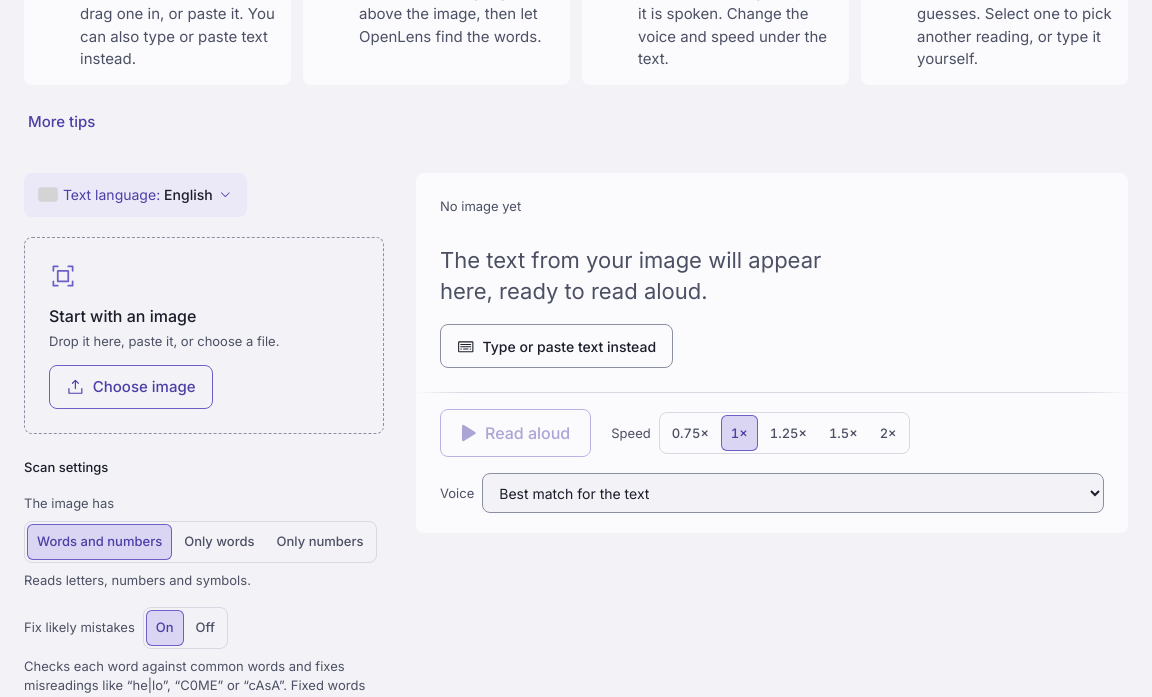
Test: App › lets you type text to read aloud
This screenshot has width=1152, height=697.
(page scrolled)
Click the button "Type or paste text instead": (557, 346) x1=440 y1=324 x2=673 y2=368
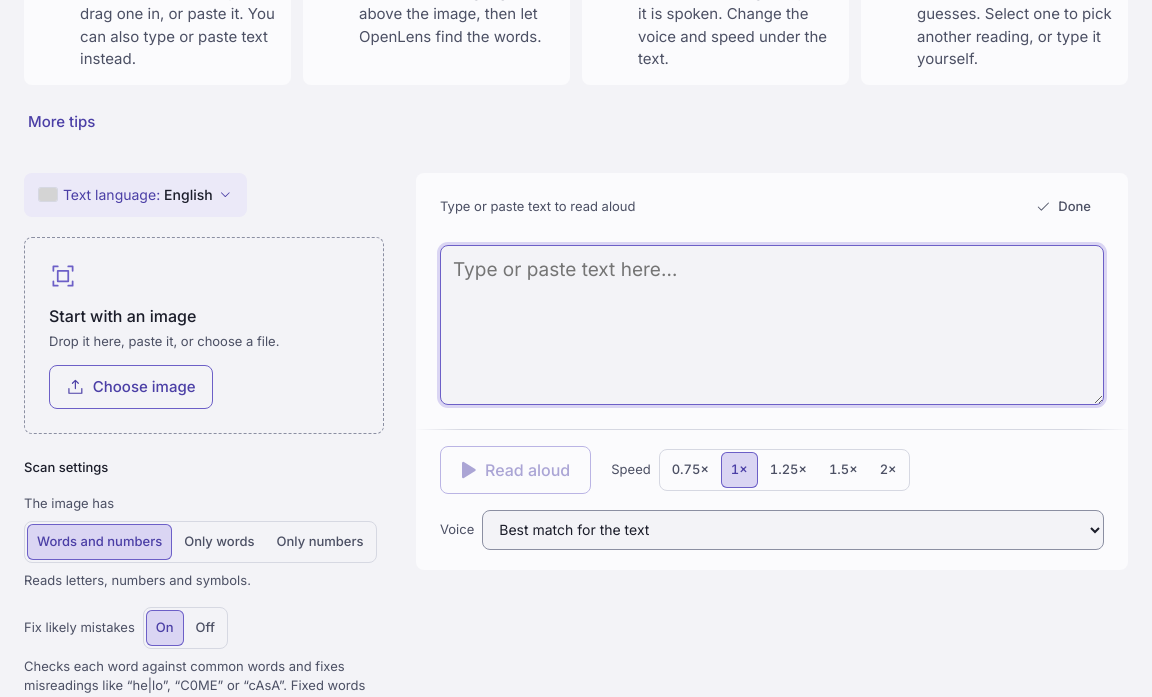
In the text box named "edit the text": (772, 325) x1=440 y1=245 x2=1104 y2=405, type "Hi there."
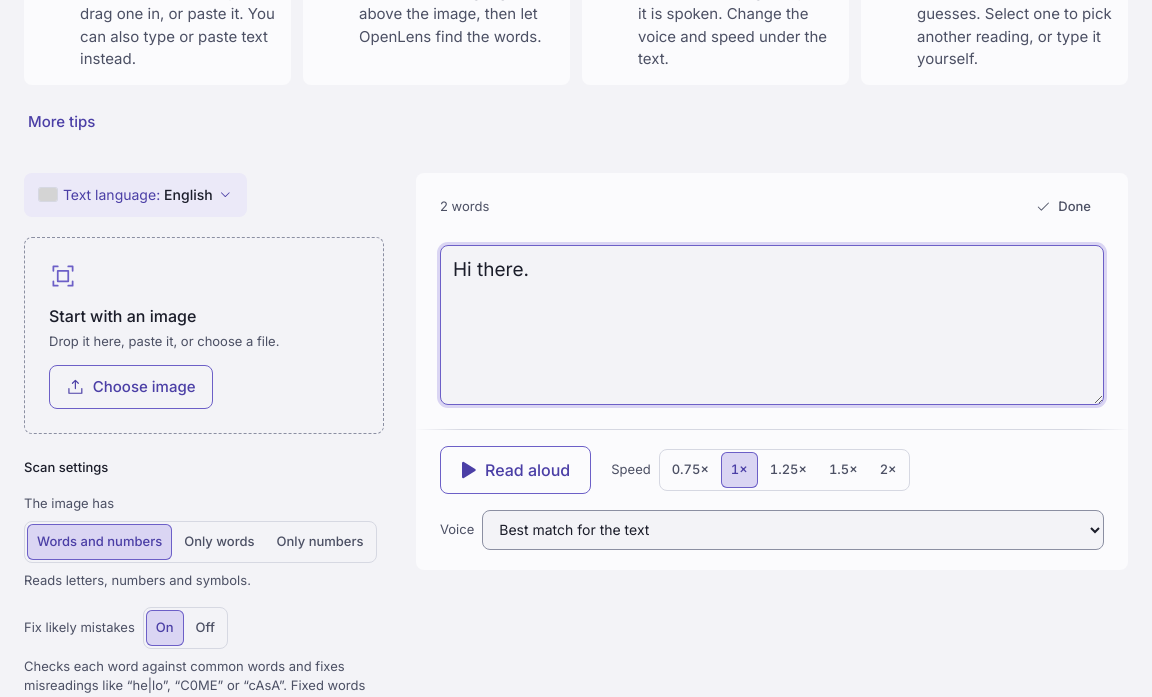
Click the button "Done": (1064, 207) x1=1023 y1=187 x2=1104 y2=227
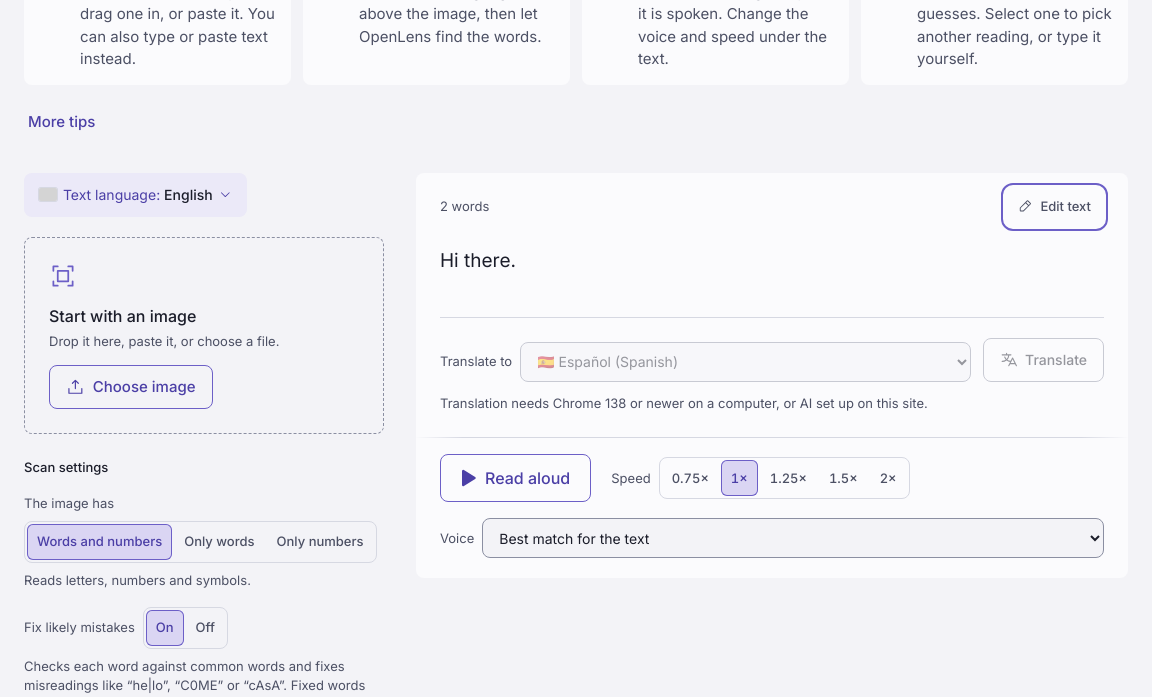
Expected: the text "2 words" is shown, x1=440 y1=197 x2=489 y2=216
Expected: the text "Hi there." is shown, x1=440 y1=249 x2=516 y2=272
